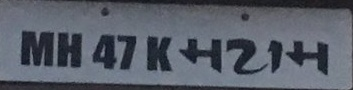character: (19, 27, 55, 67), (56, 28, 82, 69), (145, 32, 172, 71), (91, 33, 117, 70), (115, 32, 136, 70), (266, 37, 284, 73)
